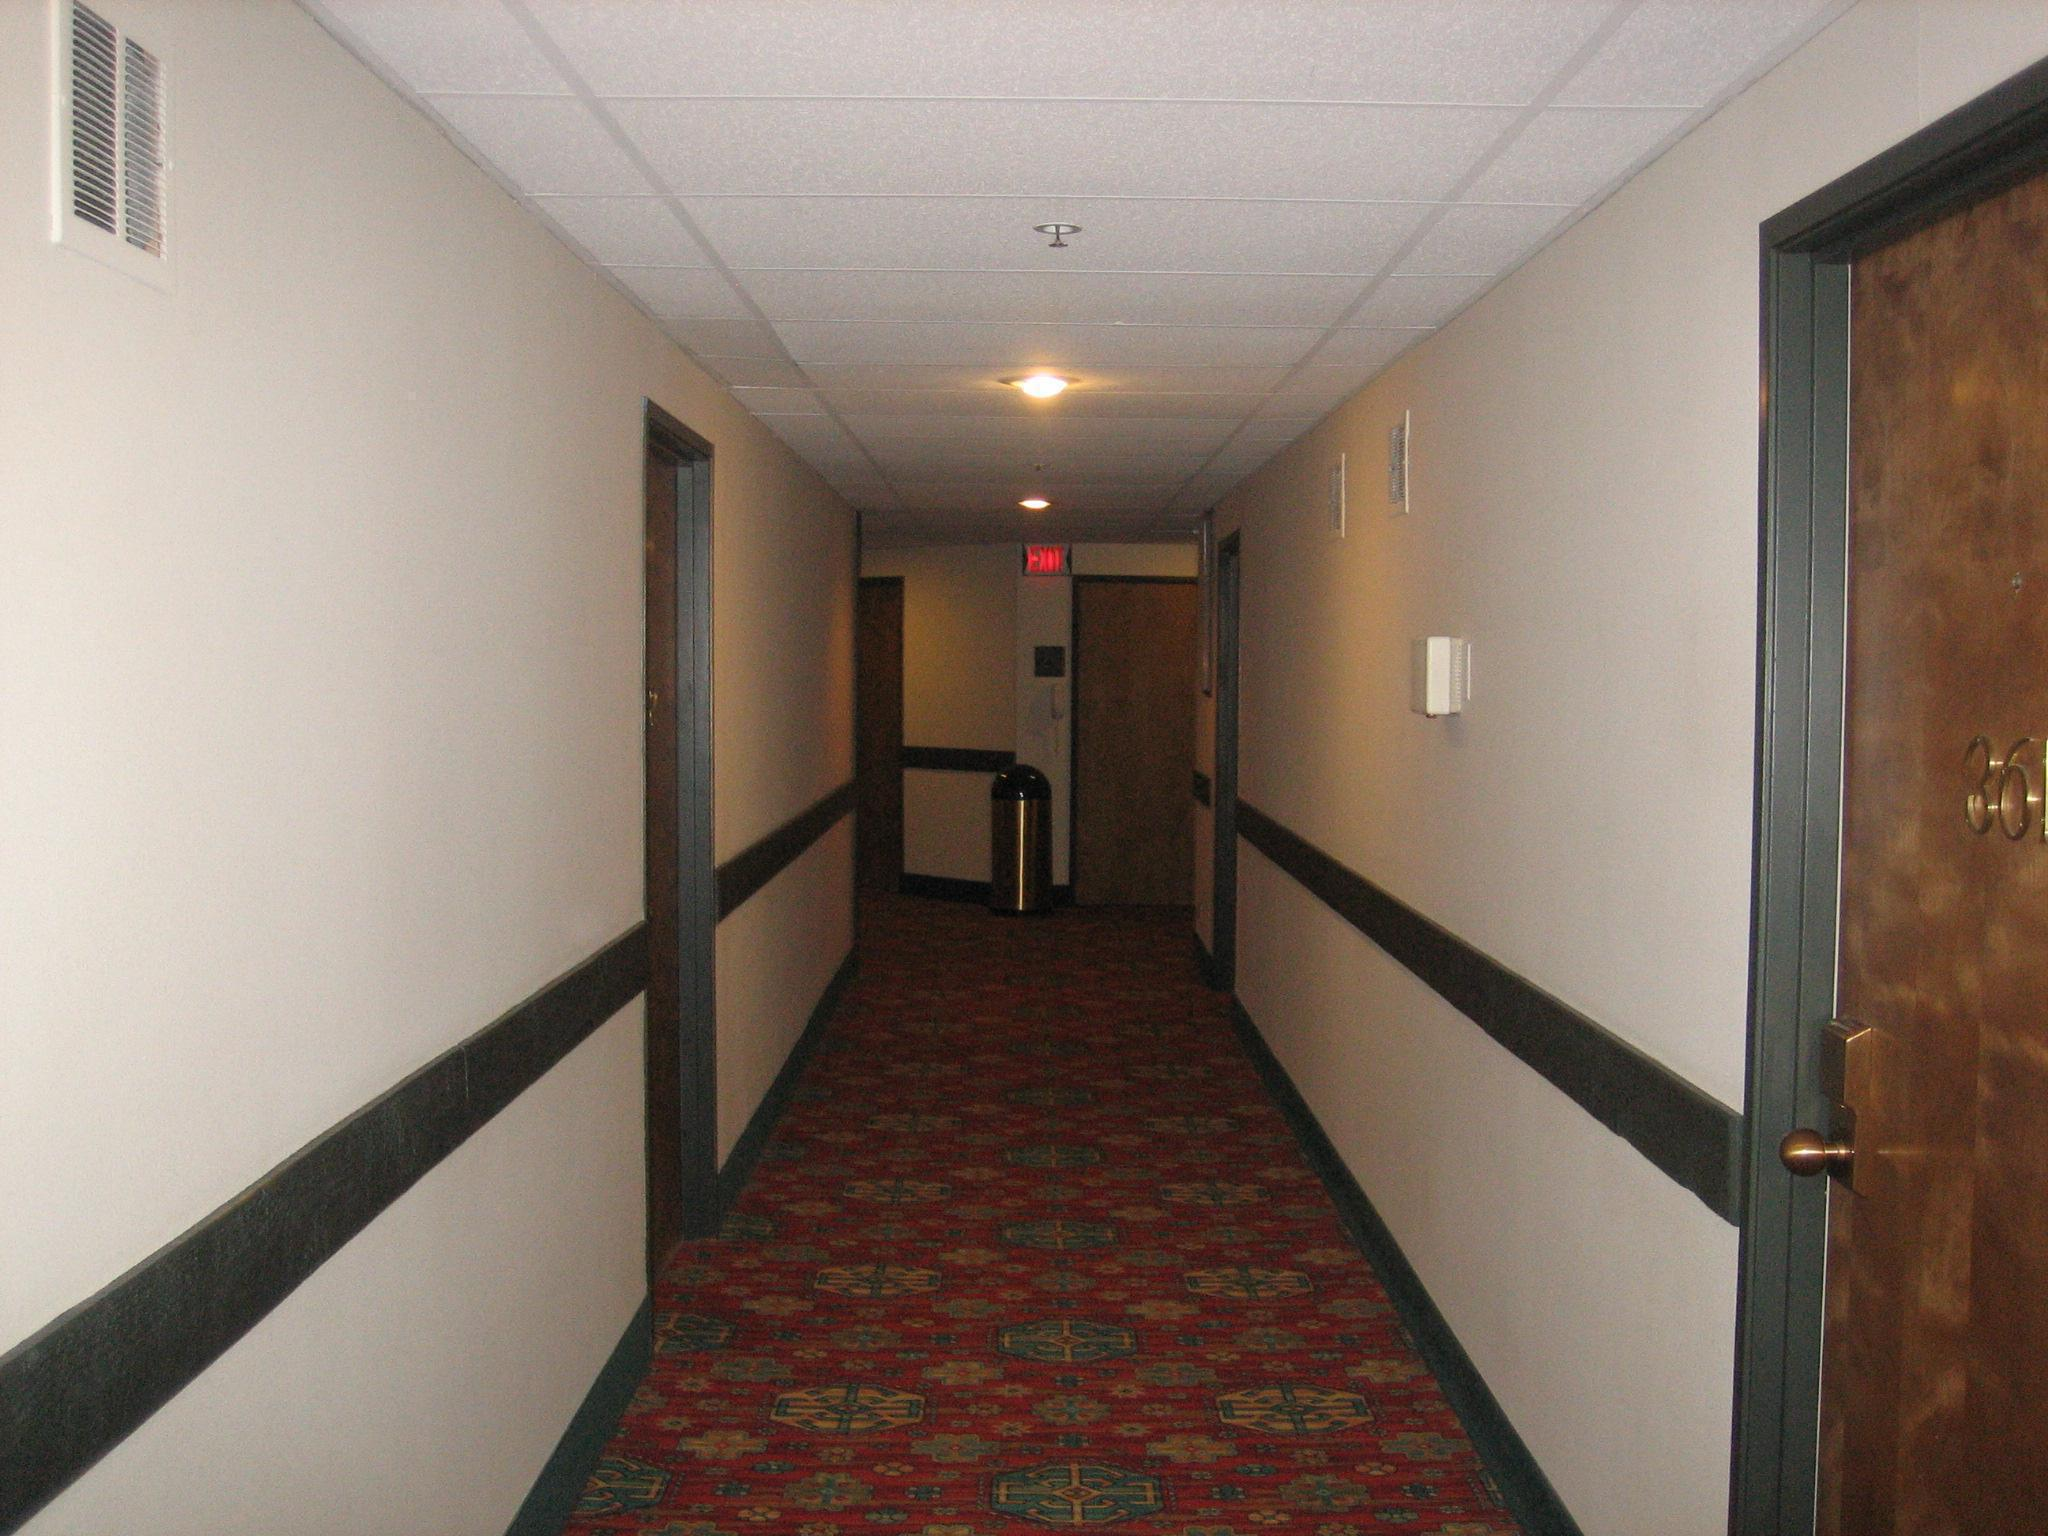Bote de Basura: (977, 753, 1056, 916)
Puerta: (1784, 227, 2045, 1534), (643, 423, 706, 1281), (1077, 591, 1198, 907)
